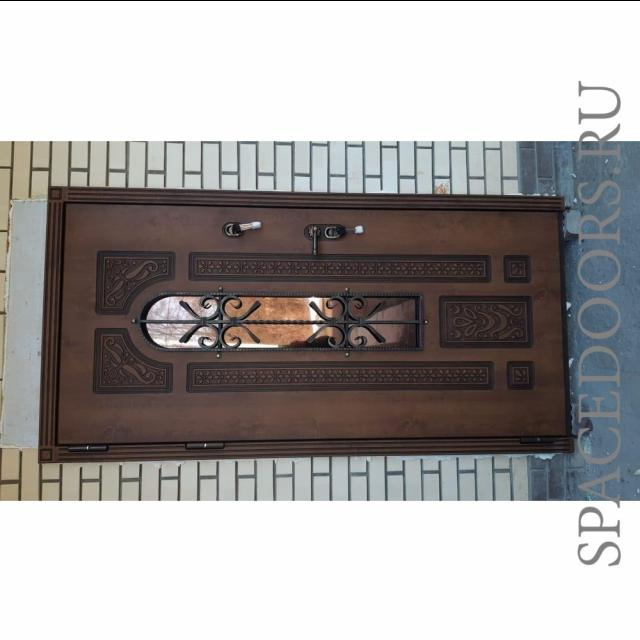close: (47, 200, 575, 444)
